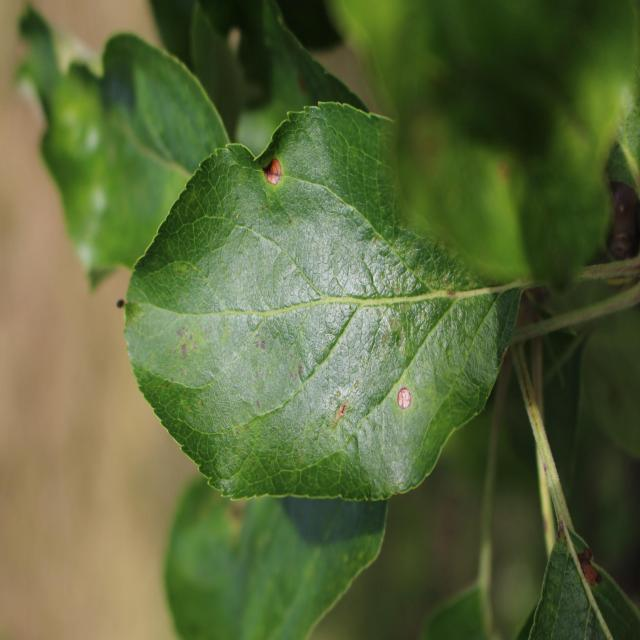frog-eye-leaf-spot: (122, 100, 524, 502)
